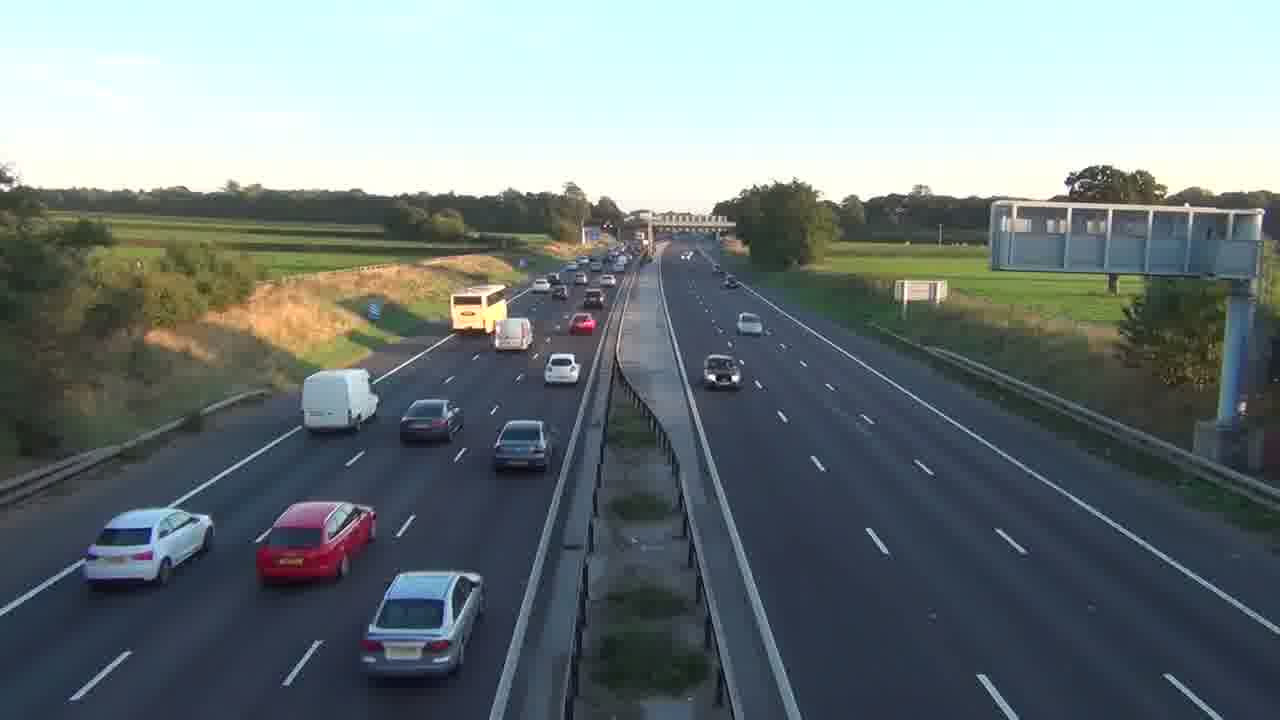bus: (449, 284, 510, 335)
car: (358, 568, 485, 683), (254, 499, 378, 586), (82, 506, 214, 587), (492, 418, 550, 471), (400, 398, 458, 443), (703, 353, 743, 390), (544, 353, 580, 385), (568, 313, 597, 335)
truck: (302, 368, 379, 432), (493, 316, 534, 353)
